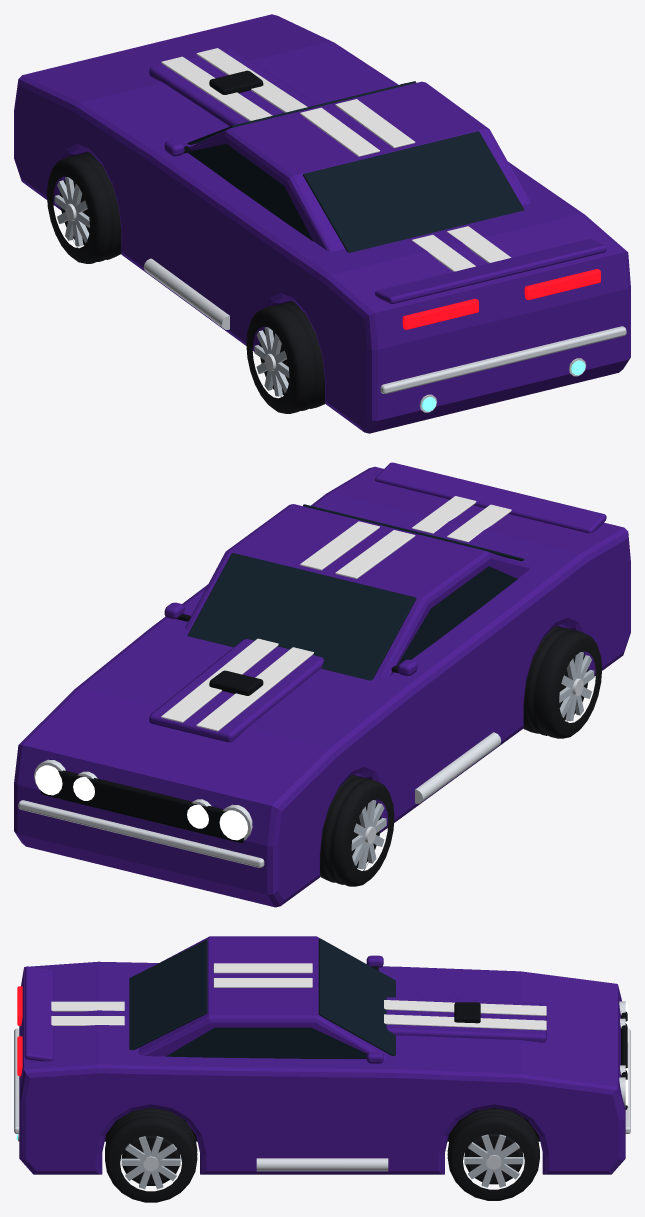
File: vandal-v8.glb
3 views of the same model, one above another, from view 1: azimuth 30°, elevation 25°; view 2: azimuth 150°, elevation 25°; view 3: azimuth 270°, elevation 25° (orthographic). The views are drawn at different scales.
Parts seen in each view (by area): view 1: Body, RearWindow, Cabin, Tire (×2), Ducktail, SideGlass, HoodStripe (×2), PowerBulge, RoofStripe (×2), RearBumper, TailLight (×2), DeckStripe (×2) (+3 smaller); view 2: Body, Windscreen, Cabin, Tire (×2), Ducktail, PowerBulge, Grille, HoodStripe (×2), SideGlass, RoofStripe (×2), FrontBumper, DeckStripe (×2) (+4 smaller); view 3: Body, Cabin, Tire (×2), RearWindow, Windscreen, SideGlass, PowerBulge, HoodStripe (×2), Ducktail, RoofStripe (×2), SidePipe, RimDish (×2) (+5 smaller).
Boxes of the visible parts, <box> form: Body: <box>14,14,630,433</box>; RearWindow: <box>303,131,524,252</box>; Cabin: <box>188,81,530,251</box>; Tire (×2): <box>47,152,324,413</box>; Ducktail: <box>375,239,606,304</box>; SideGlass: <box>188,144,313,241</box>; HoodStripe (×2): <box>161,48,307,121</box>; PowerBulge: <box>149,48,317,126</box>; RoofStripe (×2): <box>300,99,415,156</box>; RearBumper: <box>380,326,626,393</box>; TailLight (×2): <box>402,269,600,329</box>; DeckStripe (×2): <box>411,226,511,271</box>; Body: <box>14,466,630,907</box>; Windscreen: <box>187,553,416,680</box>; Cabin: <box>185,504,530,677</box>; Tire (×2): <box>320,626,602,886</box>; Ducktail: <box>375,462,606,533</box>; PowerBulge: <box>149,639,323,742</box>; Grille: <box>40,770,243,842</box>; HoodStripe (×2): <box>161,638,313,731</box>; SideGlass: <box>392,566,517,673</box>; RoofStripe (×2): <box>300,521,415,578</box>; FrontBumper: <box>18,800,264,867</box>; DeckStripe (×2): <box>411,496,511,542</box>; Body: <box>19,961,625,1174</box>; Cabin: <box>138,936,386,1059</box>; Tire (×2): <box>105,1108,539,1202</box>; RearWindow: <box>129,939,207,1050</box>; Windscreen: <box>318,938,395,1055</box>; SideGlass: <box>166,1027,366,1058</box>; PowerBulge: <box>386,997,546,1042</box>; HoodStripe (×2): <box>384,1000,546,1030</box>; Ducktail: <box>24,966,53,1061</box>; RoofStripe (×2): <box>213,963,312,987</box>; SidePipe: <box>256,1158,388,1171</box>; RimDish (×2): <box>121,1134,523,1185</box>.
Bounding box in the file's own units: 2.29 × 1.4 × 4.68.
